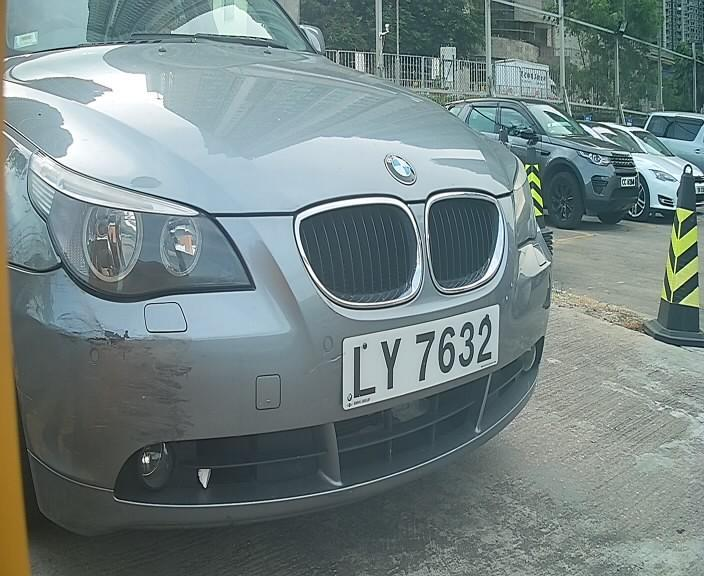privatecar: (1, 19, 576, 535)
